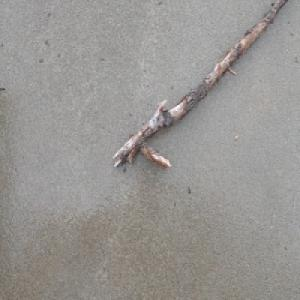Wood: (111, 0, 289, 171)
